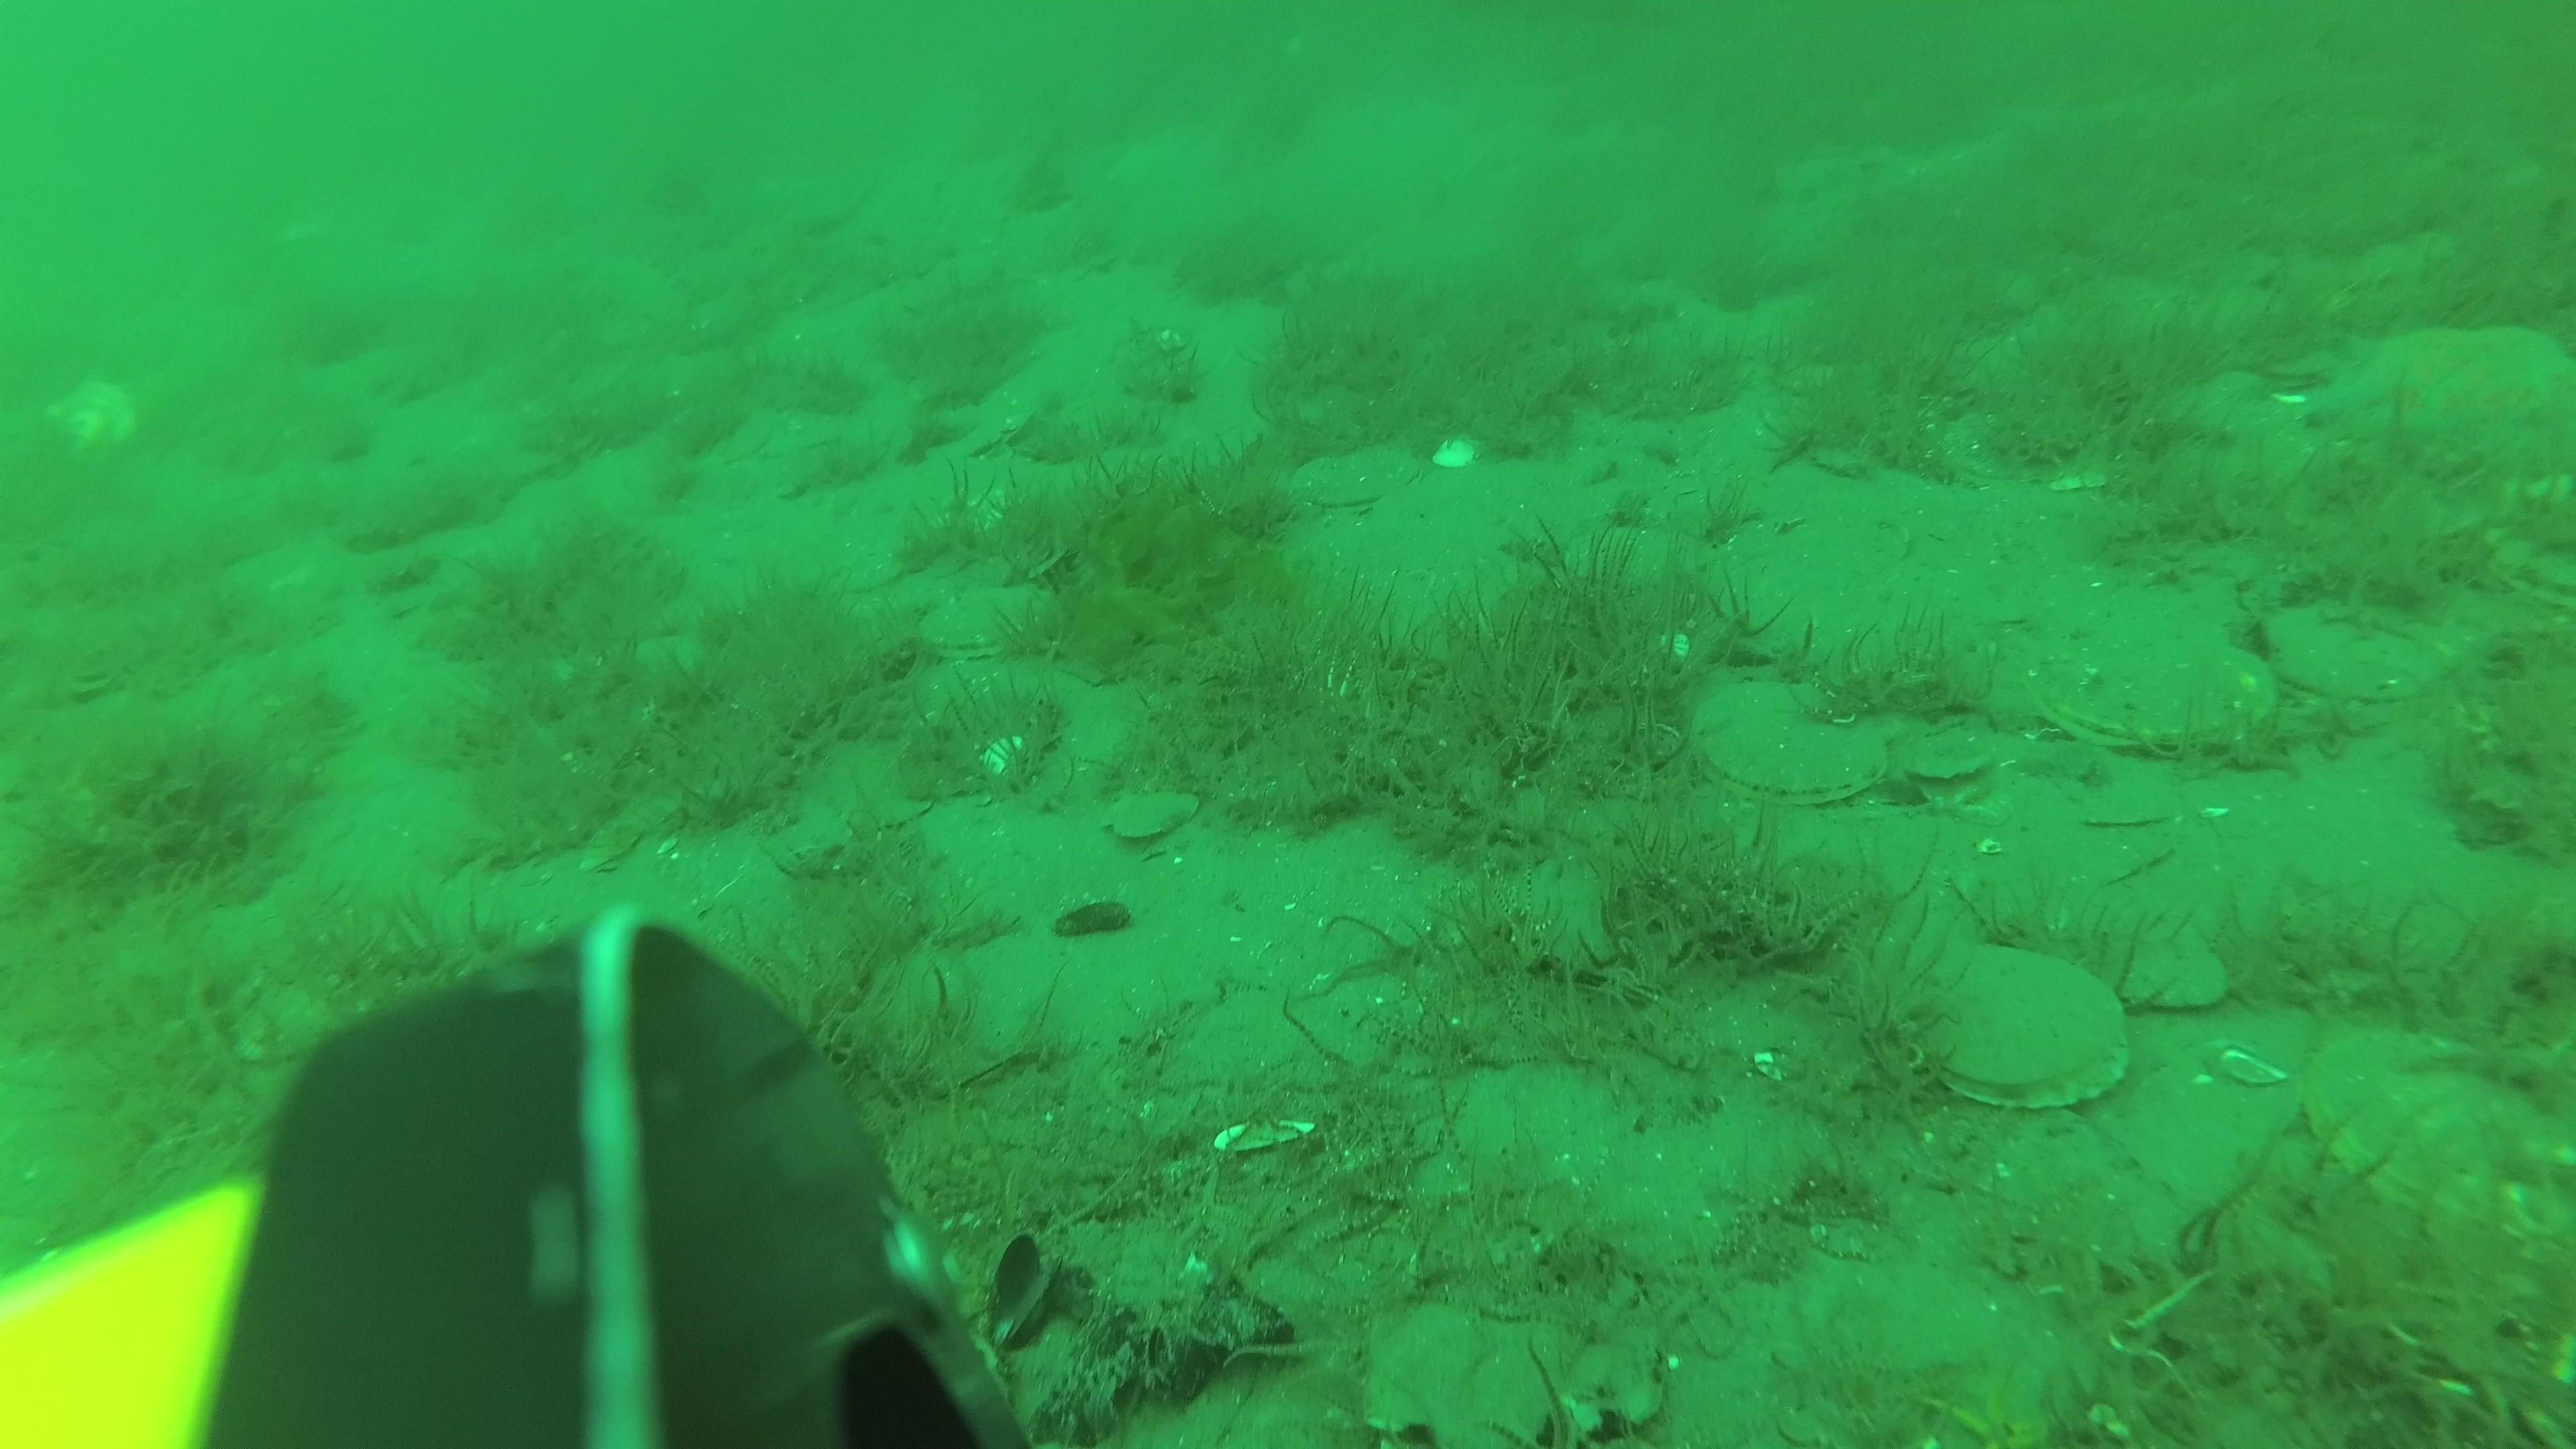scallop: (2307, 1019, 2572, 1240), (1918, 945, 2127, 1115), (2038, 625, 2275, 752), (1697, 679, 1890, 809), (2284, 607, 2461, 702), (920, 582, 1056, 656), (1295, 448, 1422, 515), (44, 372, 140, 456), (2123, 943, 2231, 1010), (2495, 531, 2576, 610), (1909, 732, 1992, 801), (1102, 786, 1201, 839)
starfish: (2362, 317, 2576, 412)
